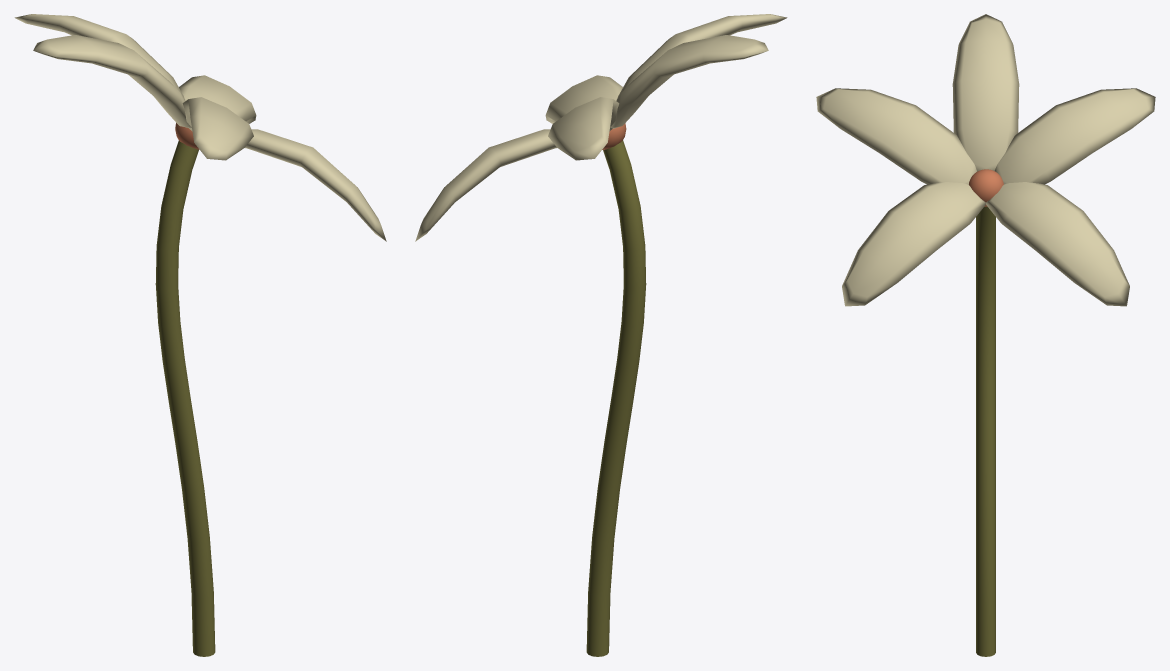
The model's file is Flower1.fbx.
3 views of the same model, side by side, from view 1: azimuth 30°, elevation 25°; view 2: azimuth 150°, elevation 25°; view 3: azimuth 270°, elevation 25° (orthographic). The views are drawn at different scales.
Parts seen in each view (by area): view 1: Flower1; view 2: Flower1; view 3: Flower1.
Boxes of the visible parts, x1=… form: Flower1: x1=14, y1=14, x2=386, y2=656; Flower1: x1=415, y1=14, x2=787, y2=656; Flower1: x1=816, y1=14, x2=1155, y2=656.
Size of the model in its own units: 115 by 254 by 138.
